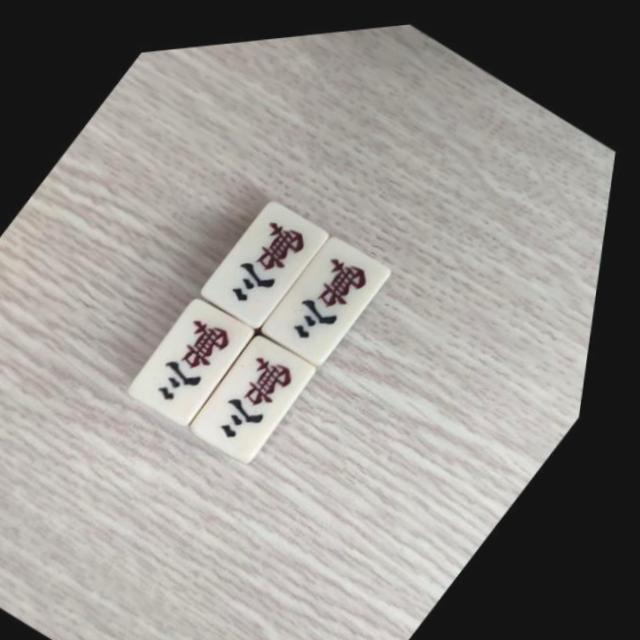sc3: (272, 230, 398, 357), (211, 192, 336, 318), (141, 289, 265, 415), (204, 327, 327, 453)
